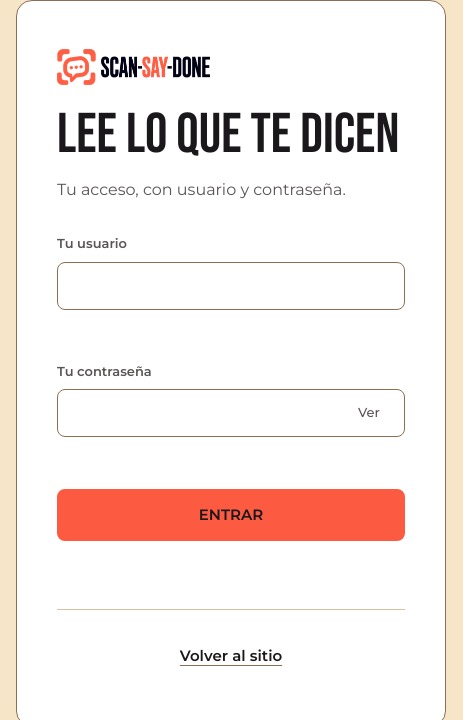
Test: LoginCard › 401 → «Usuario o contraseña incorrectos.» y no guarda sesión
Type "minimarket_don_lucho" into the field labelled "Tu usuario".
click(231, 286); type("minimarket_don_lucho")  # box [57, 262, 405, 310]
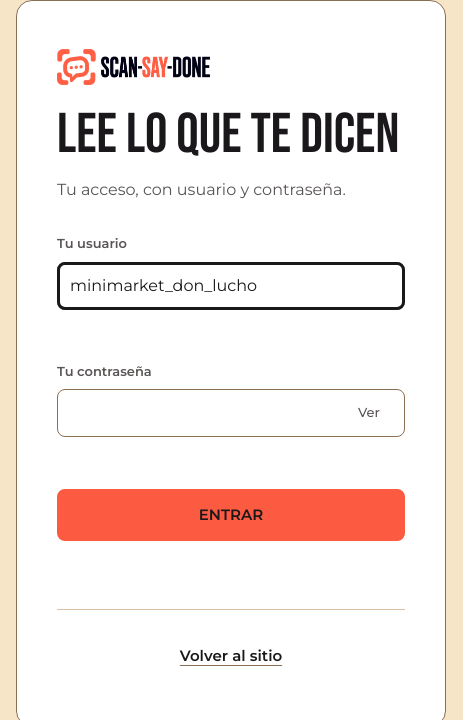
Type "malapass" into the password field labelled "Tu contraseña".
click(231, 413); type("malapass")  # box [57, 389, 405, 437]
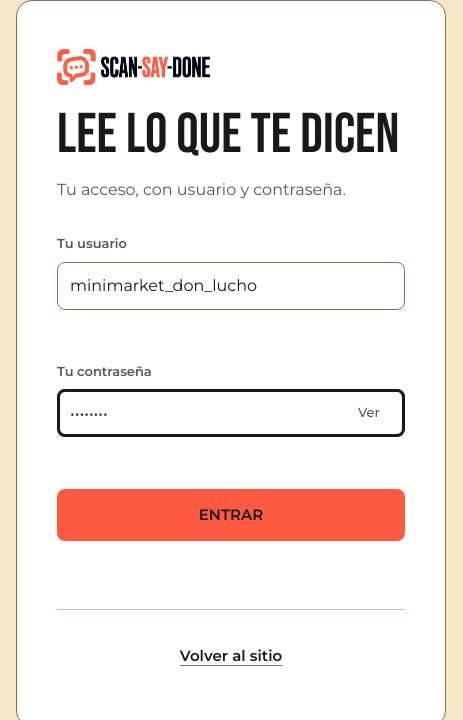
Click the button "ENTRAR".
click(231, 515)  # box [57, 489, 405, 541]
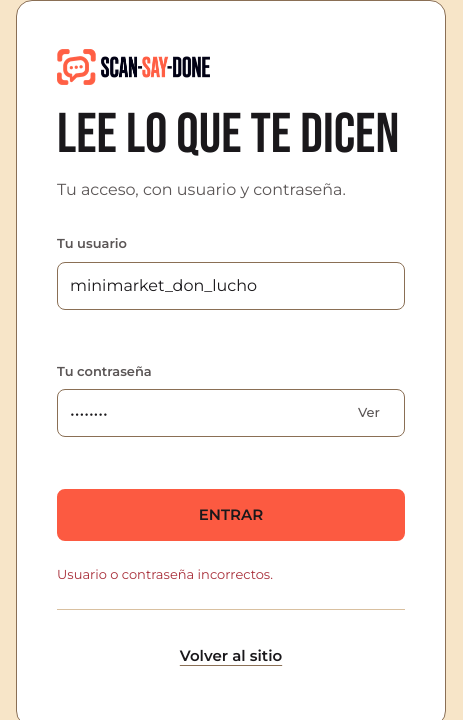
Check: the text "Usuario o contraseña incorrectos." is shown, box [57, 566, 273, 582]
